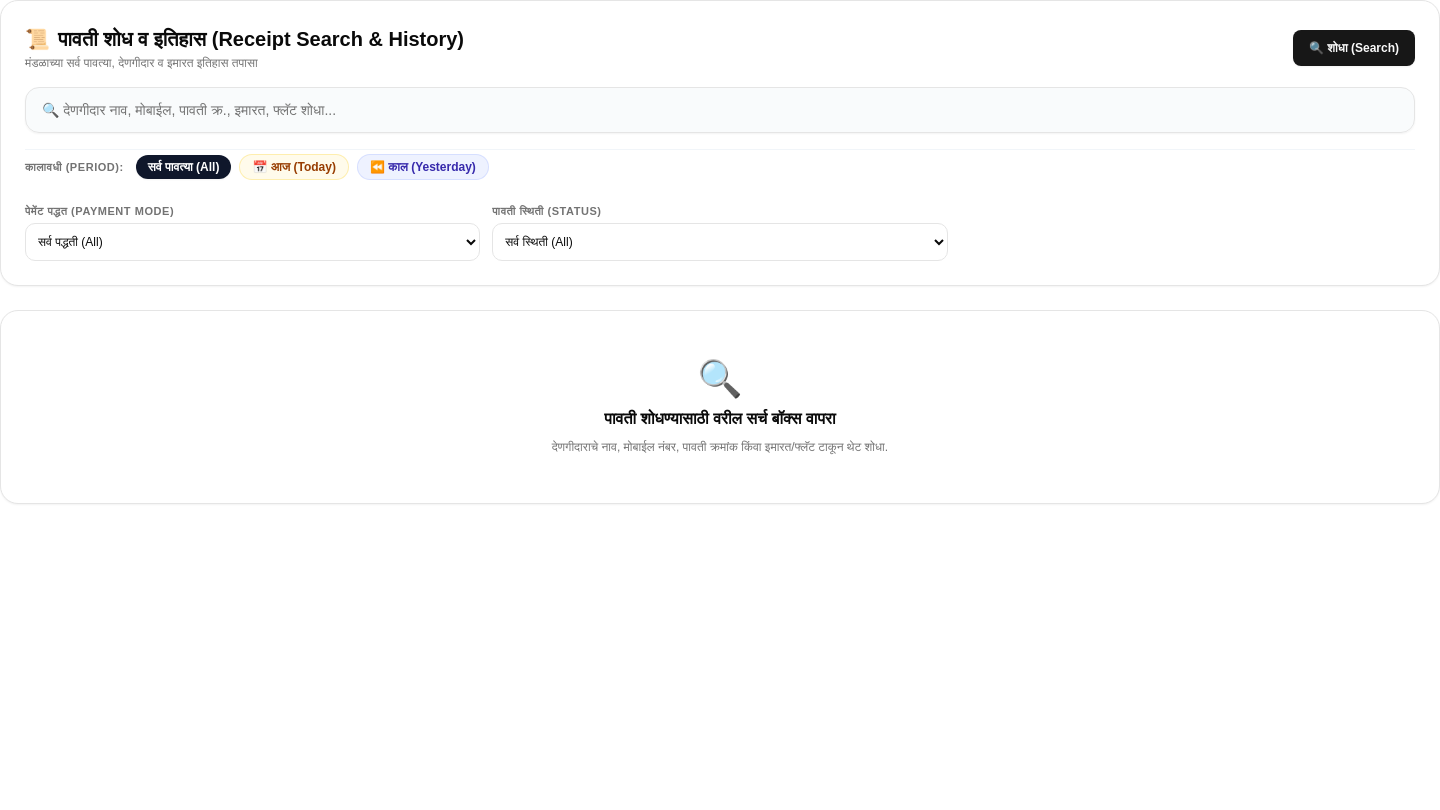
Test: ReceiptSearchPanel (Phase 2J - Direction C) › 5. DONOR IDENTITY SAFETY: Verified Phone Match vs Possible Name Matches disambiguation
Click the button "🔍 शोधा (Search)" at (1354, 48), box left=1293, top=30, right=1415, bottom=66
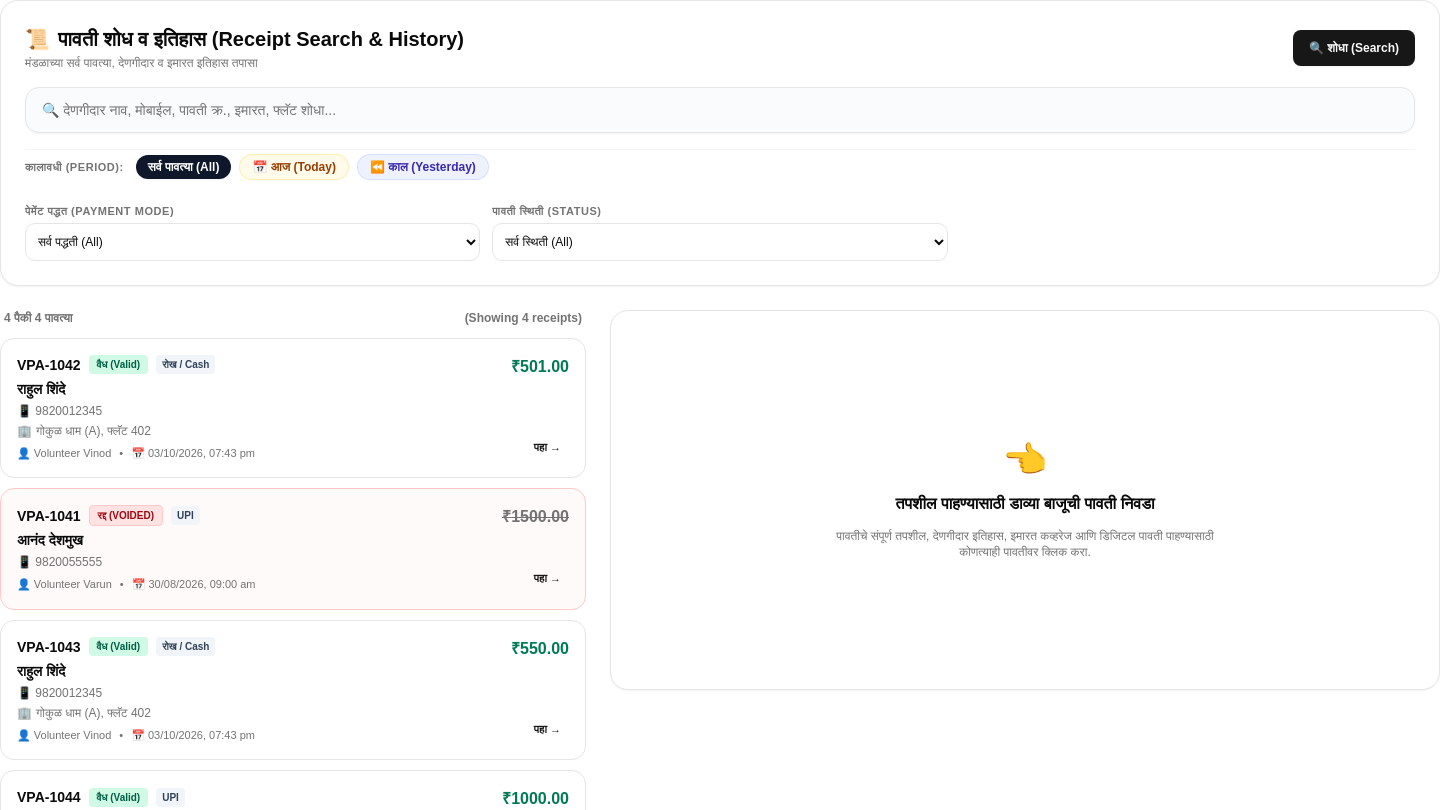
Now the text "VPA-1042" is shown
Click the text "VPA-1042" at (49, 365), box left=17, top=355, right=81, bottom=375
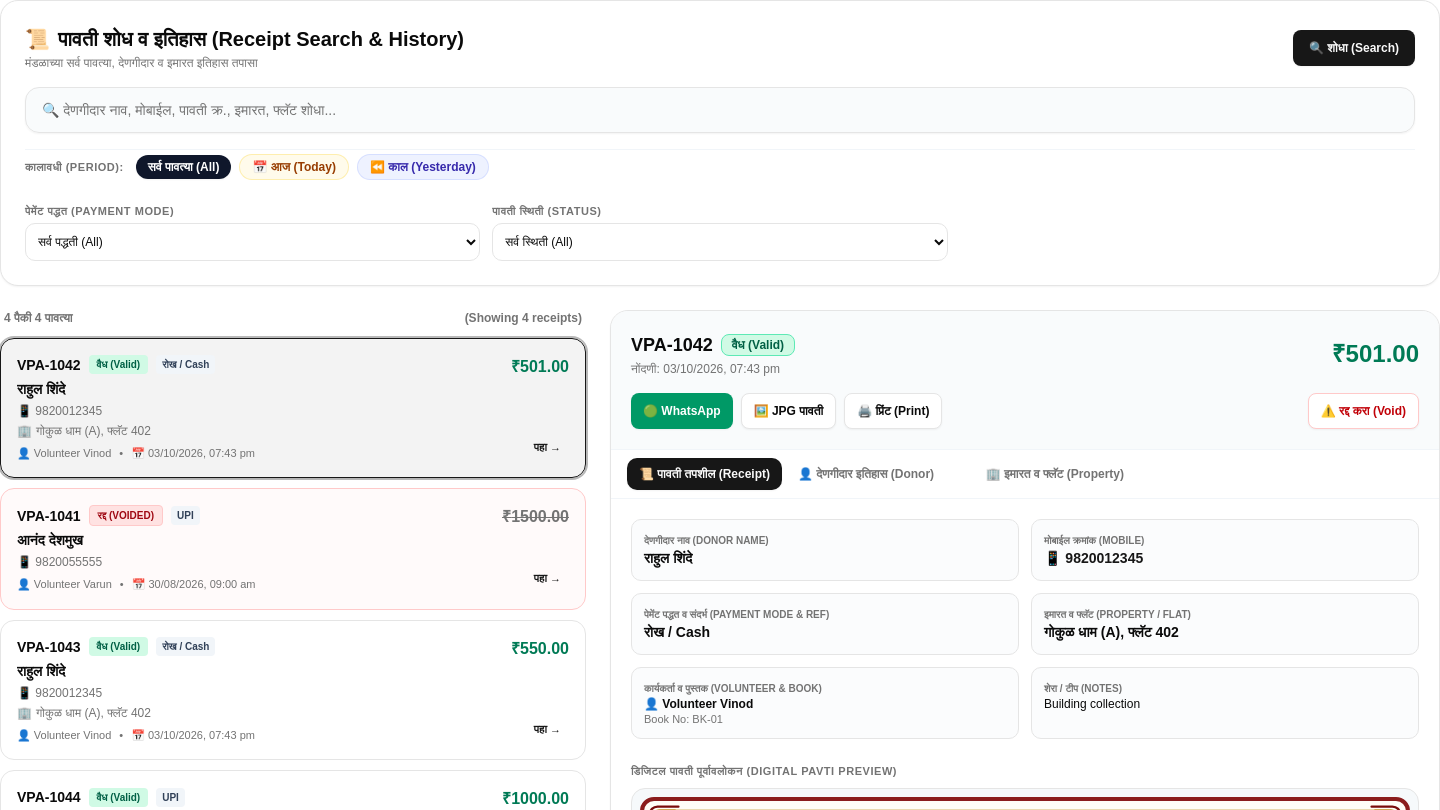
Switch to Donor Tab
Click the button "👤 देणगीदार इतिहास (Donor) 2" at (878, 474), box left=786, top=458, right=970, bottom=490
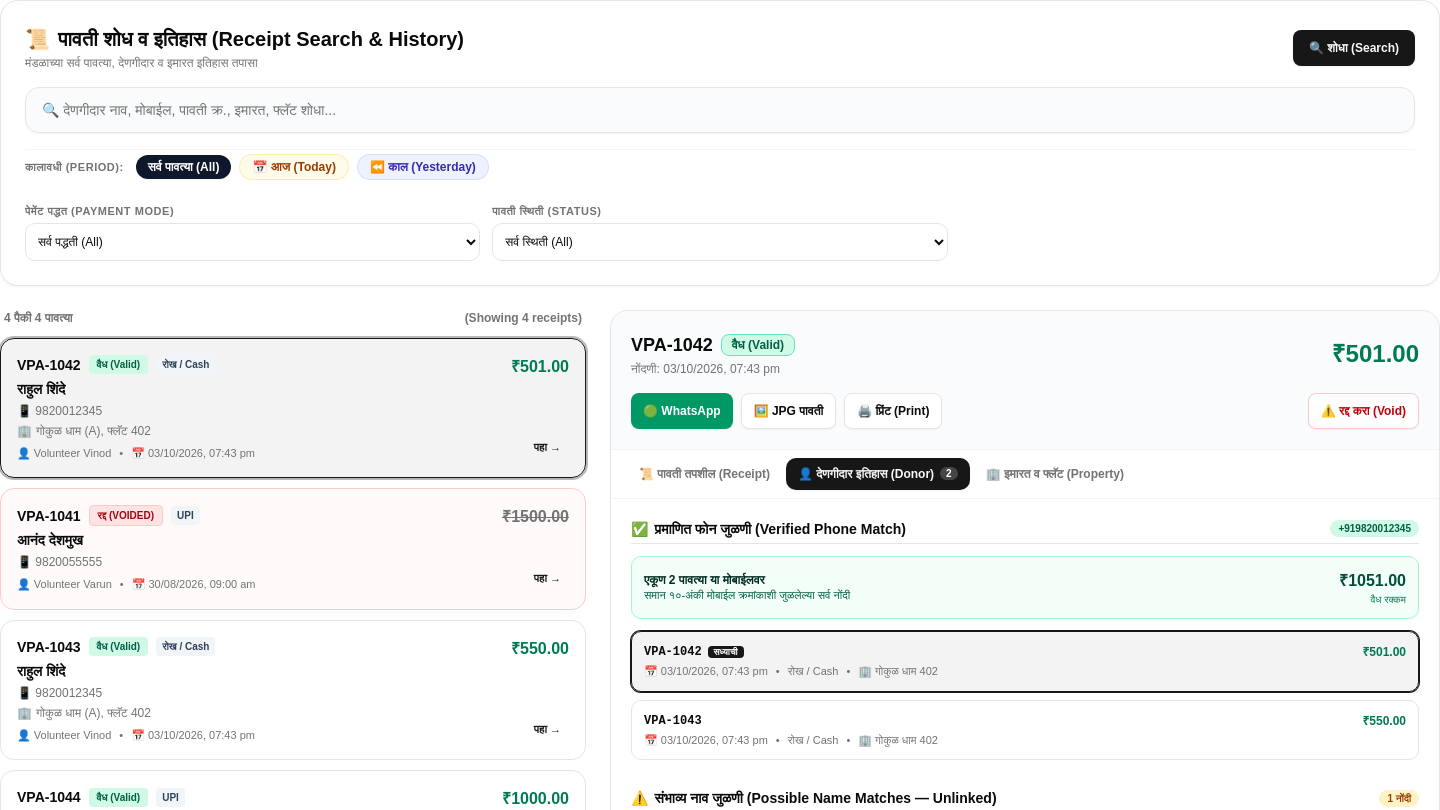
Now the text "प्रमाणित फोन जुळणी (Verified Phone Match)" is shown, box left=654, top=519, right=906, bottom=539
Now the text "एकूण 2 पावत्या या मोबाईलवर" is shown, box left=644, top=573, right=765, bottom=587
Now the text "₹1051.00" is shown, box left=1339, top=572, right=1406, bottom=589
